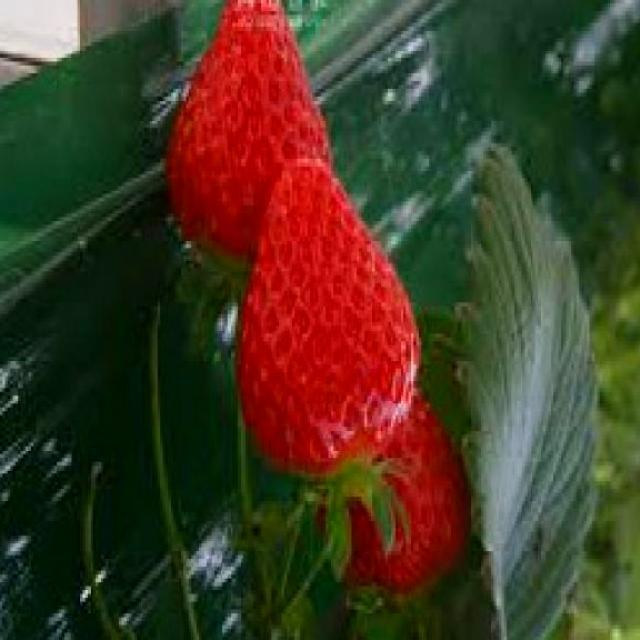Healthy Fruit: (237, 164, 417, 480), (177, 0, 328, 249)
